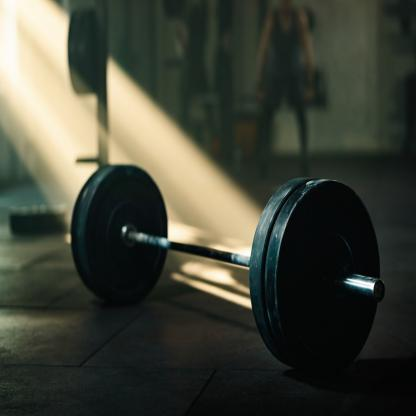Barbell: (245, 165, 394, 386)
